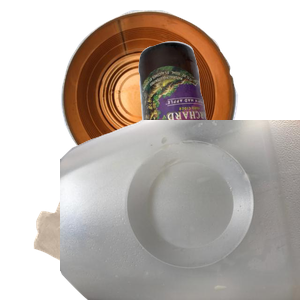glass: (136, 39, 300, 219)
metal: (58, 10, 289, 186)
plastic: (60, 120, 300, 300)
trash: (31, 149, 268, 300)
